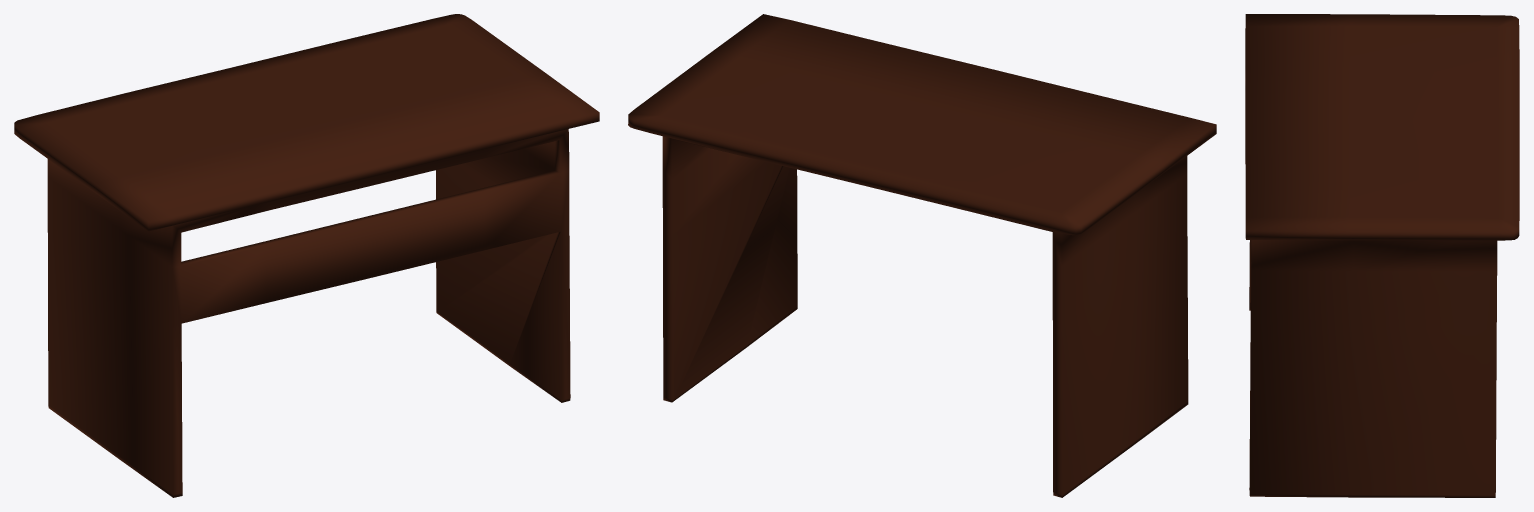
File: table.obj
3 renders of one model, left to right at view 1: azimuth 30°, elevation 25°; view 2: azimuth 150°, elevation 25°; view 3: azimuth 270°, elevation 25°, orthographic. The views are drawn at different scales.
Visible parts, largest first — view 1: Object_2_Table_0; view 2: Object_2_Table_0; view 3: Object_2_Table_0.
Part boxes in pixels (bbox=[...]): Object_2_Table_0: bbox=[14, 14, 599, 497]; Object_2_Table_0: bbox=[628, 14, 1216, 497]; Object_2_Table_0: bbox=[1245, 14, 1519, 497].
Bounding box in the file's own units: 0.964 × 0.5829 × 0.515.
